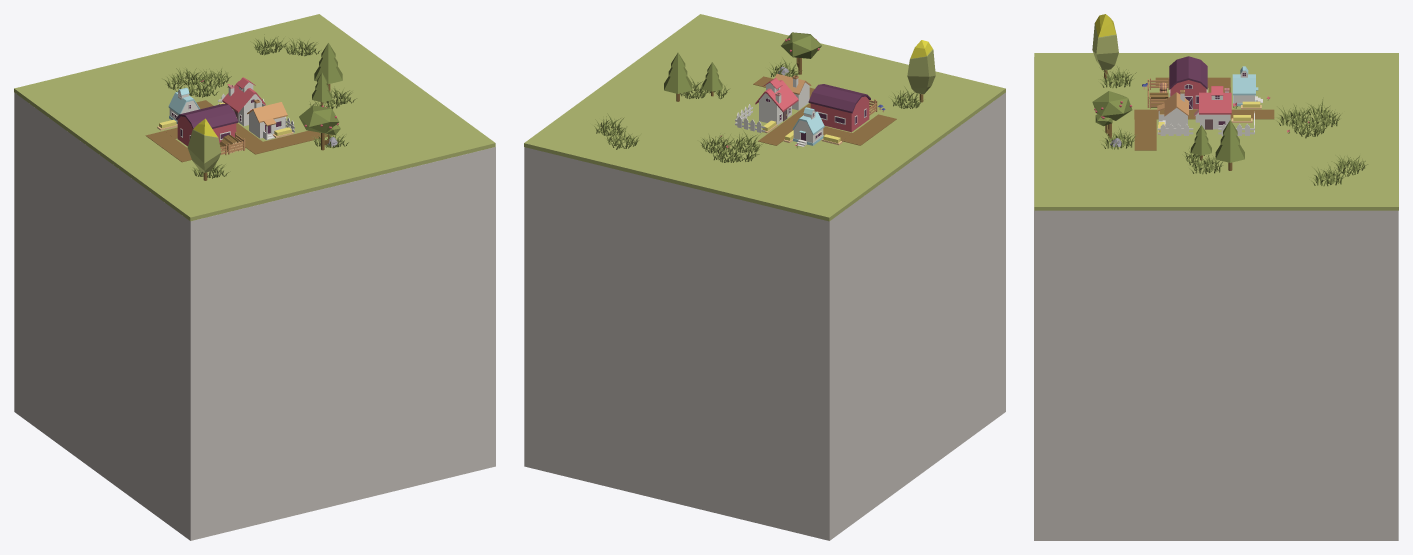
Rendered from Country2.fbx.
3 views of the same model, side by side, from view 1: azimuth 30°, elevation 25°; view 2: azimuth 150°, elevation 25°; view 3: azimuth 270°, elevation 25° (orthographic). The views are drawn at different scales.
Parts seen in each view (by area): view 1: coun_2; view 2: coun_2; view 3: coun_2.
Part boxes in pixels (<box>): coun_2: <box>14,14,495,540</box>; coun_2: <box>524,14,1005,540</box>; coun_2: <box>1034,14,1398,540</box>.
Size of the model in its own units: 12 by 14.47 by 12.02.
